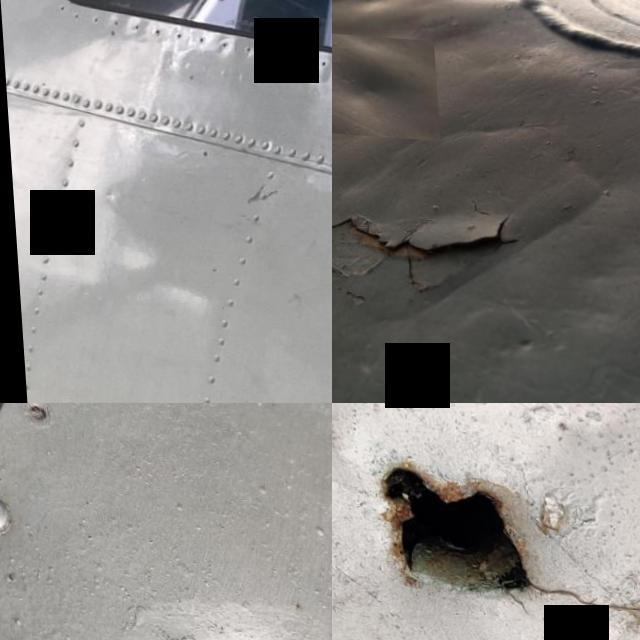Crack: (355, 441, 640, 638), (332, 177, 534, 295)
Dent: (128, 541, 312, 640), (332, 28, 438, 136), (332, 0, 415, 30)
